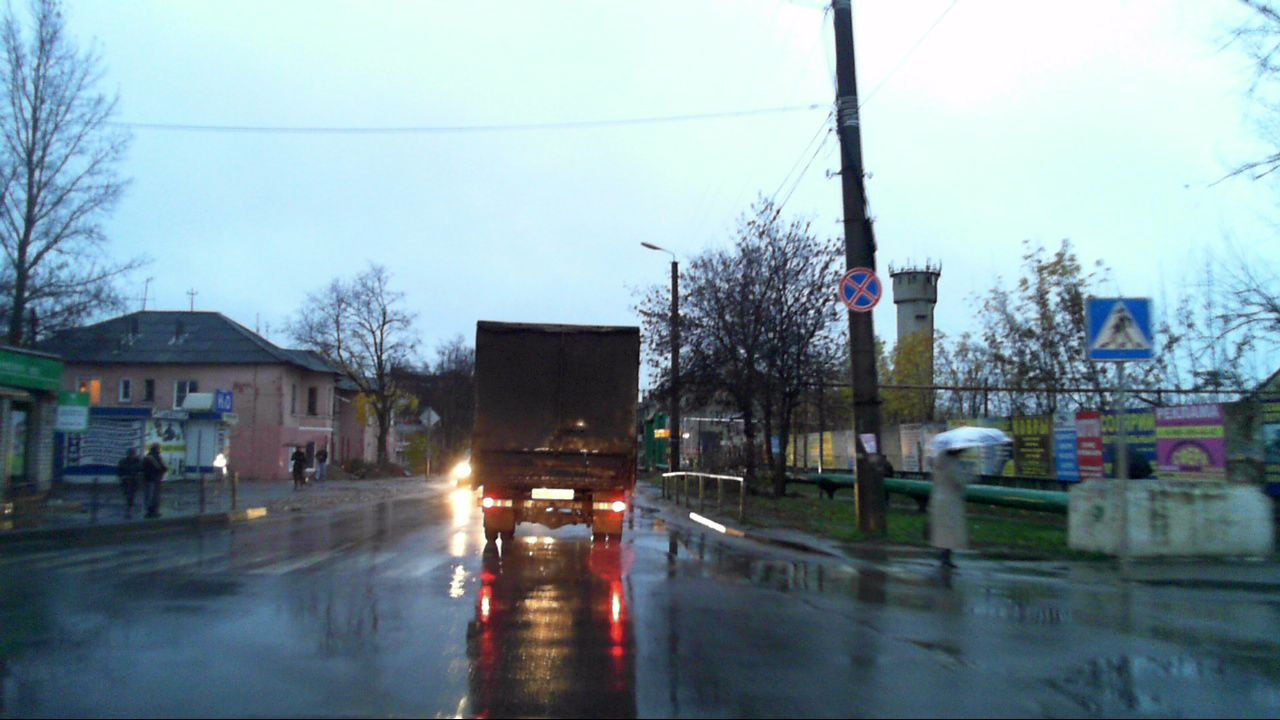No Parking: (839, 269, 883, 311)
